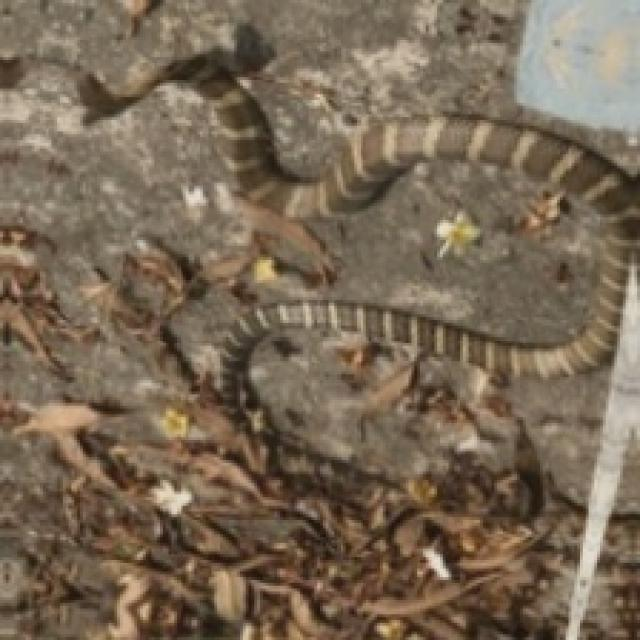king cobra: (151, 65, 640, 434), (66, 70, 145, 122)
